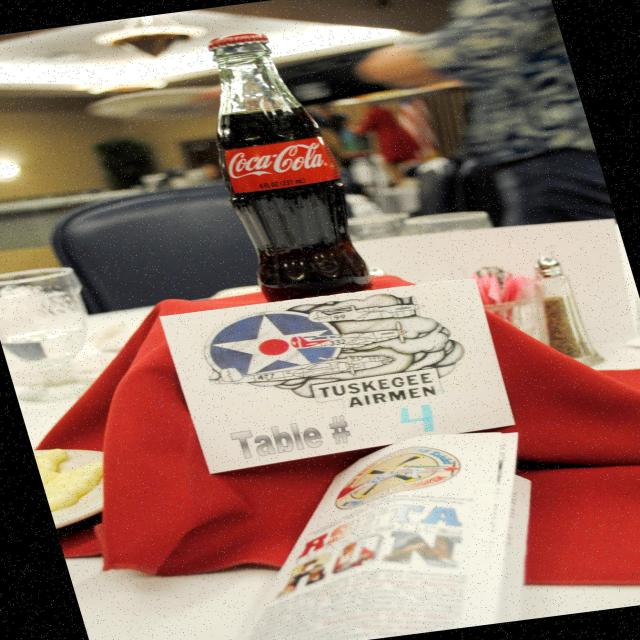coca-cola: (171, 15, 401, 310)
